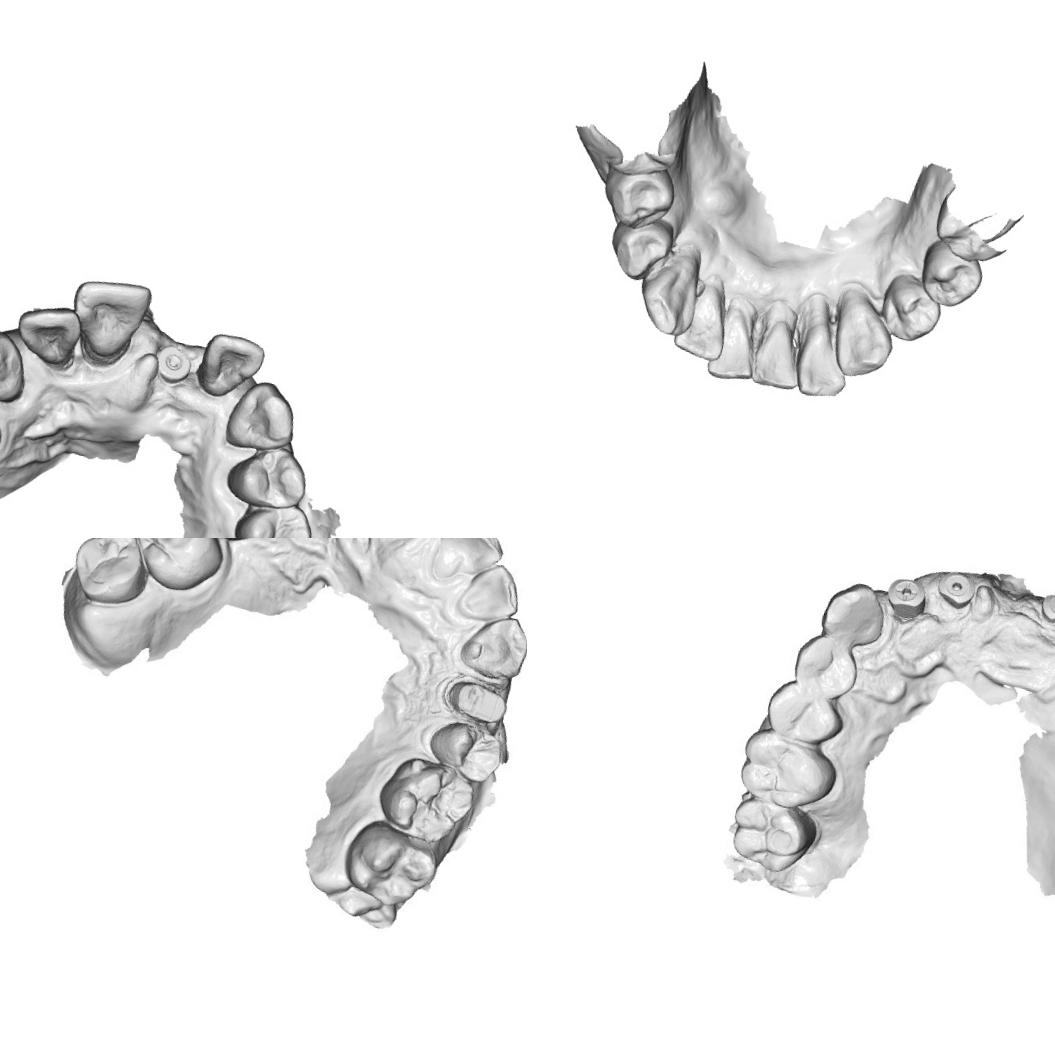canine: (631, 241, 707, 342), (219, 374, 304, 458), (826, 294, 902, 384), (454, 609, 527, 685), (816, 582, 891, 649), (0, 322, 34, 406)
crown: (447, 674, 511, 725)
implant: (148, 339, 198, 393), (934, 566, 976, 608), (1035, 585, 1055, 630)
implant_plus: (882, 572, 928, 617)
incisor: (60, 271, 156, 370), (792, 300, 862, 402), (8, 296, 88, 376), (192, 325, 268, 406), (746, 306, 812, 394), (703, 299, 769, 386), (670, 280, 736, 366), (456, 560, 524, 632), (424, 538, 506, 587)
molar: (373, 749, 482, 851), (340, 816, 443, 912), (734, 726, 840, 810), (725, 796, 817, 878), (120, 538, 238, 600), (64, 538, 160, 612)
premolar: (222, 437, 316, 517), (596, 156, 681, 234), (760, 678, 848, 746), (912, 234, 987, 313), (425, 711, 507, 783), (603, 210, 677, 287), (873, 270, 946, 346), (790, 634, 860, 695), (228, 493, 319, 538)
